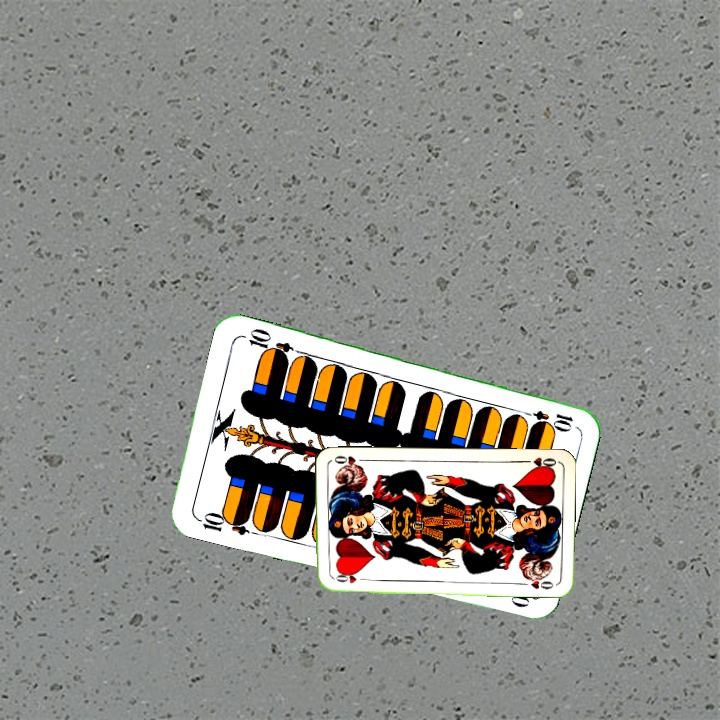E10: (192, 508, 252, 539), (517, 406, 576, 432)
HO: (519, 453, 559, 472), (329, 570, 369, 585)
